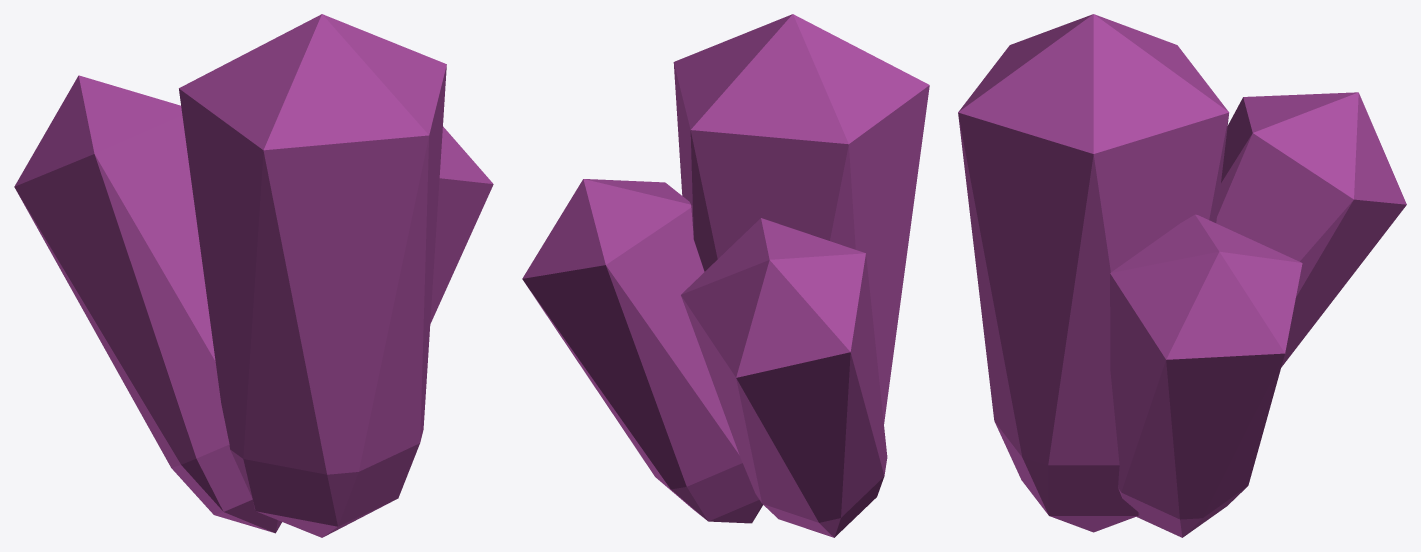
Rendered from Resource_Crystals.fbx.
3 renders of one model, left to right at view 1: azimuth 30°, elevation 25°; view 2: azimuth 150°, elevation 25°; view 3: azimuth 270°, elevation 25°, orthographic. The views are drawn at different scales.
Visible parts, largest first — view 1: Resource_Crystals; view 2: Resource_Crystals; view 3: Resource_Crystals.
Part boxes in pixels (box(x1,y1,x2,y2)): Resource_Crystals: box(14, 14, 493, 537); Resource_Crystals: box(522, 14, 929, 537); Resource_Crystals: box(958, 14, 1406, 537).
Bounding box in the file's own units: 0.4709 × 0.6009 × 0.4715.
